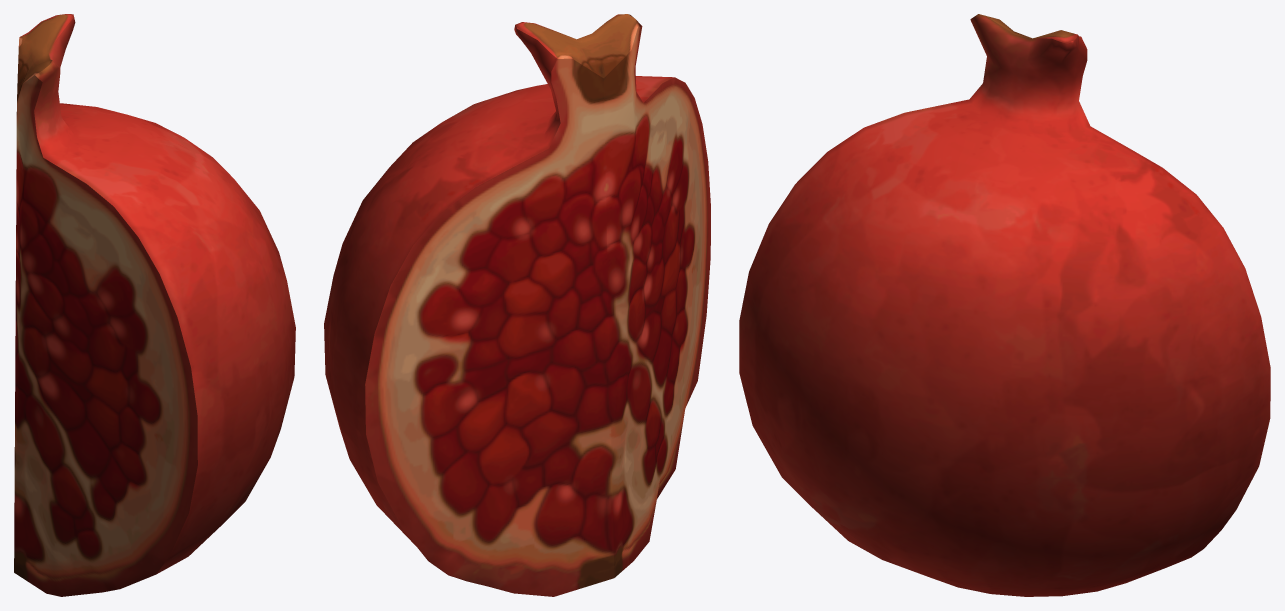
Rendered from SM_PomegranateCutC.fbx.
3 renders of one model, left to right at view 1: azimuth 30°, elevation 25°; view 2: azimuth 150°, elevation 25°; view 3: azimuth 270°, elevation 25°, orthographic. The views are drawn at different scales.
Parts seen in each view (by area): view 1: SM_PomegranateCutC; view 2: SM_PomegranateCutC; view 3: SM_PomegranateCutC.
Boxes of the visible parts, x1,y1,x2,y2 form: SM_PomegranateCutC: (14, 14, 295, 596); SM_PomegranateCutC: (324, 14, 710, 596); SM_PomegranateCutC: (739, 14, 1270, 596).
Bounding box in the file's own units: 9.72 × 19.87 × 17.
